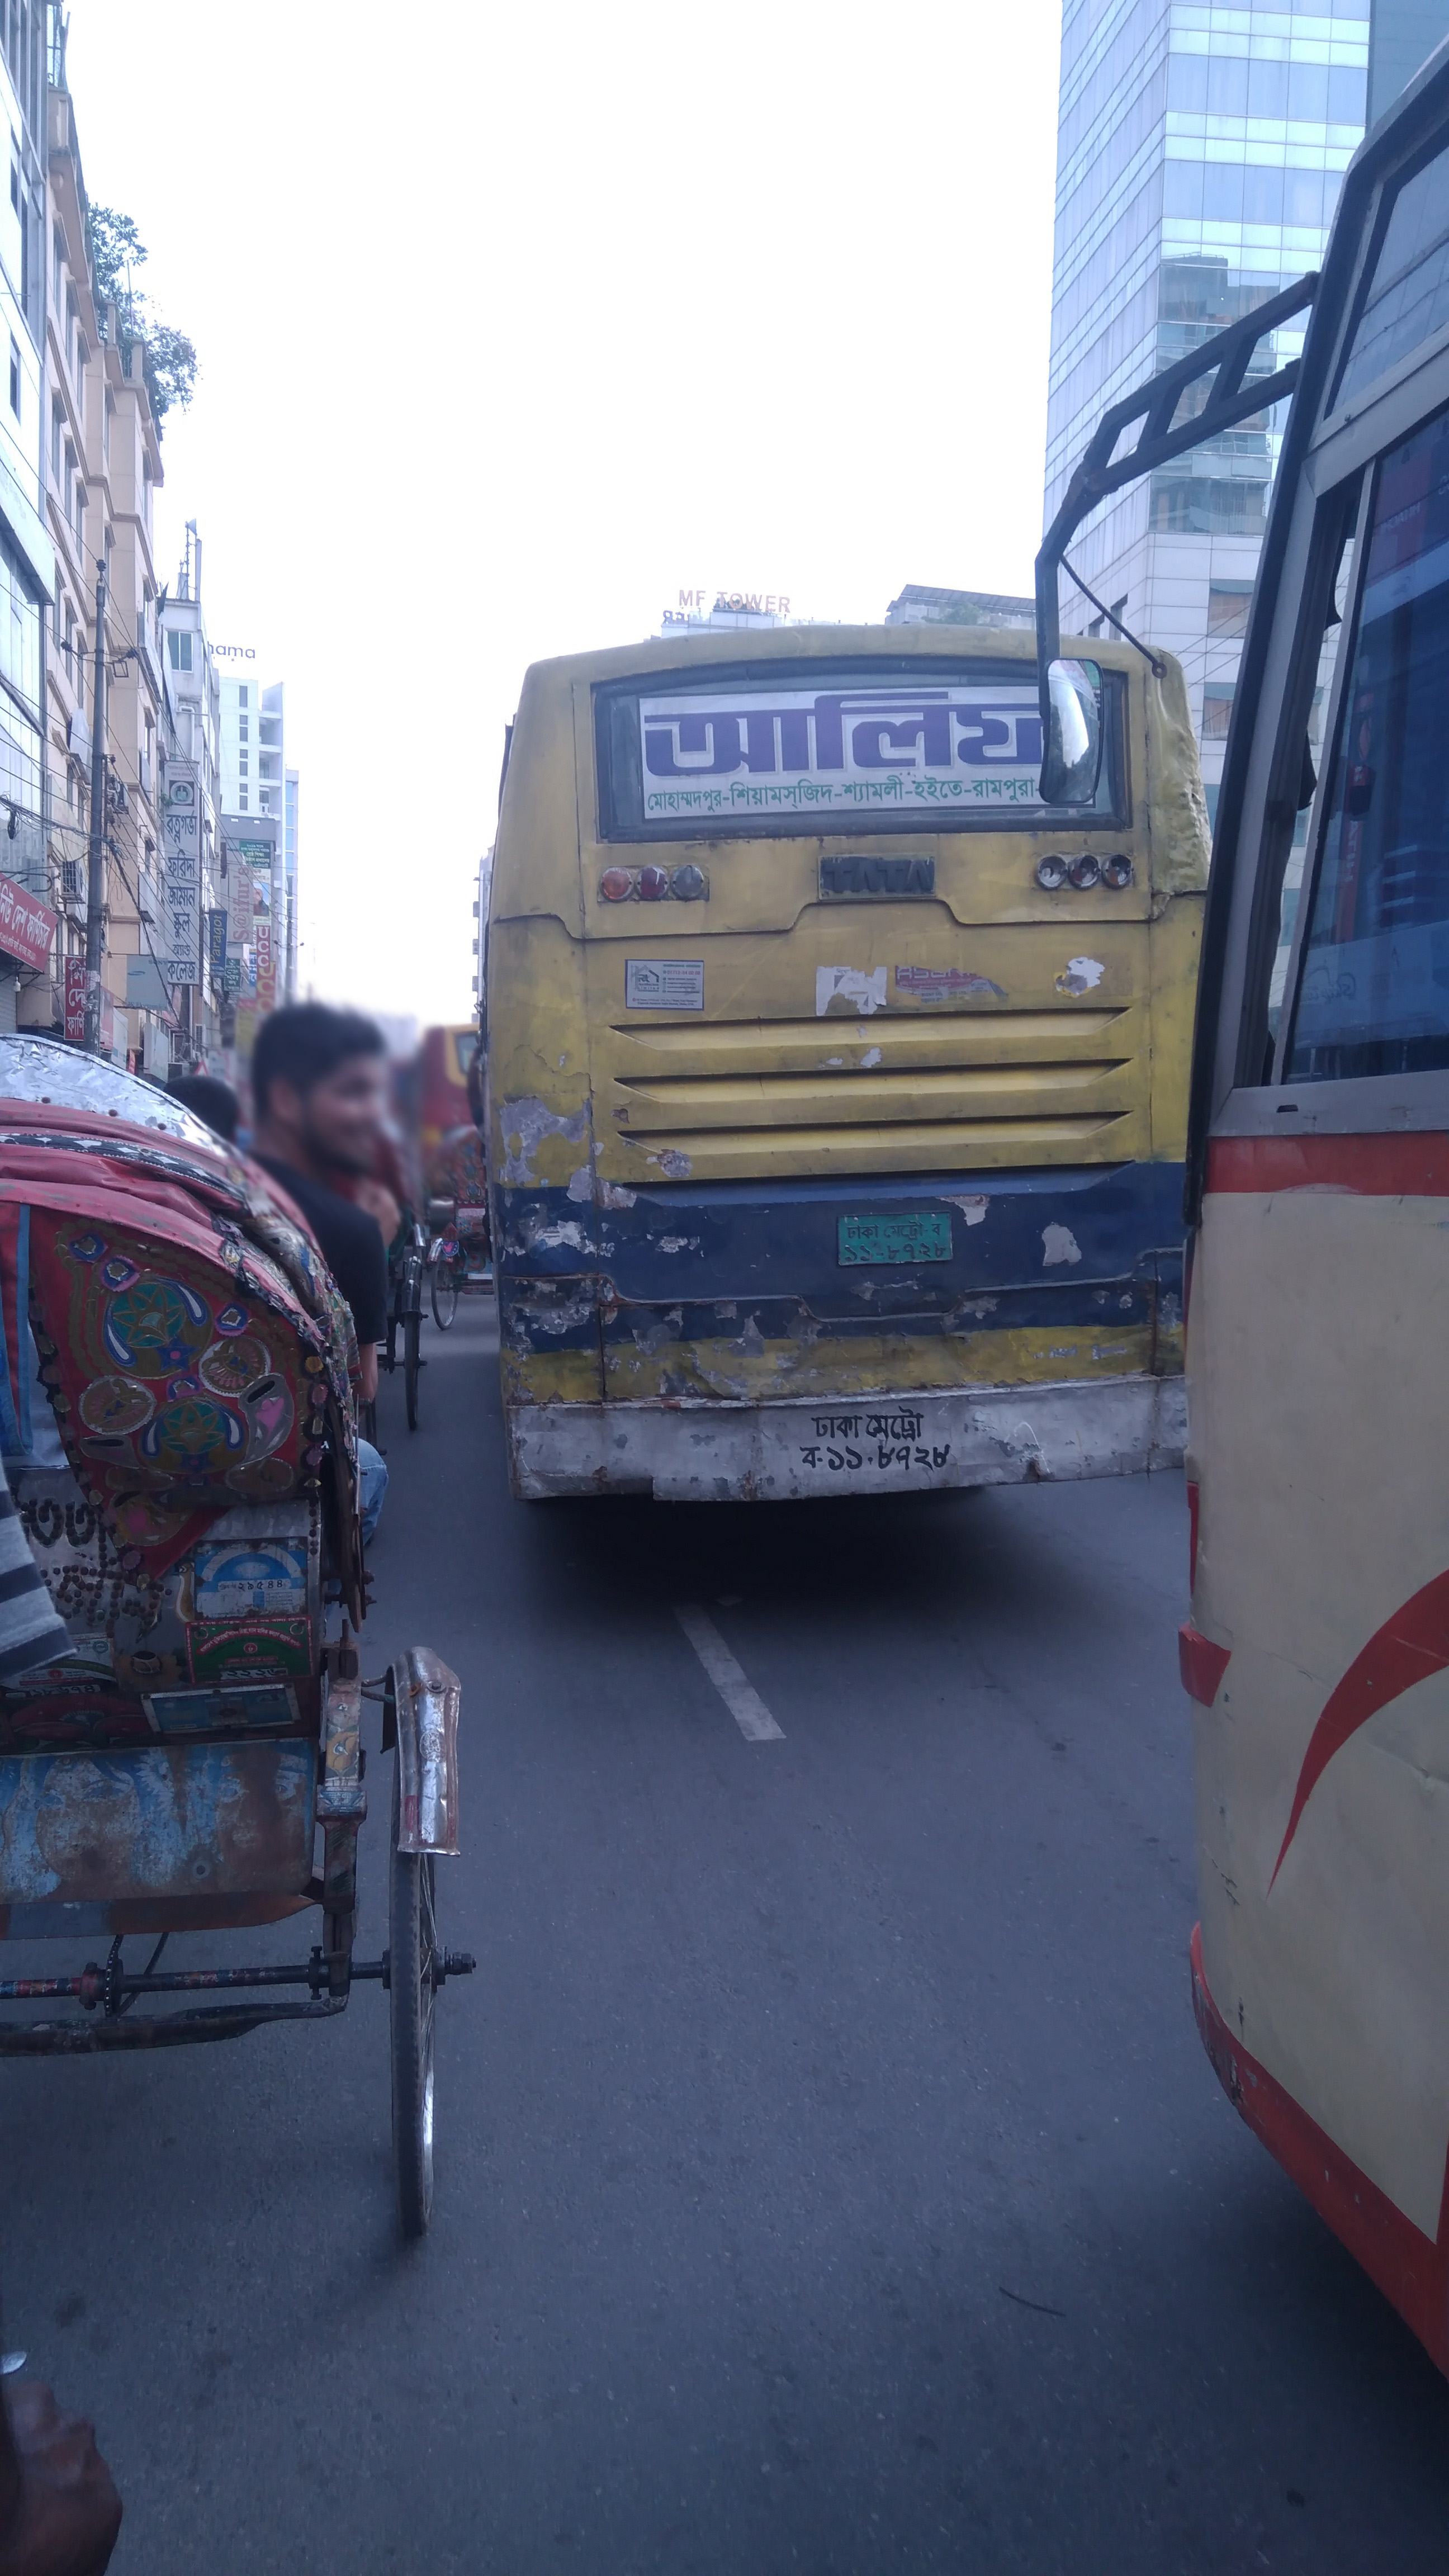bus: (1040, 28, 1449, 2380), (485, 616, 1200, 1522)
rickshaw: (0, 1035, 478, 2242)
